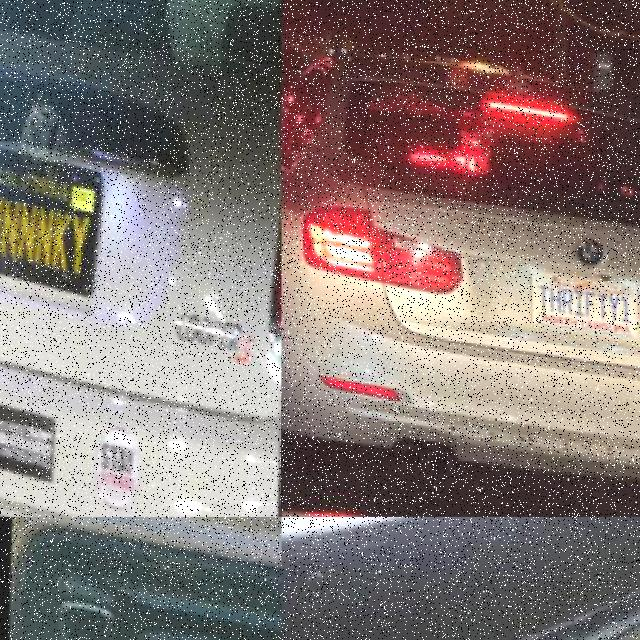licenseplate: (0, 137, 97, 295), (523, 266, 630, 337), (209, 517, 282, 571)
